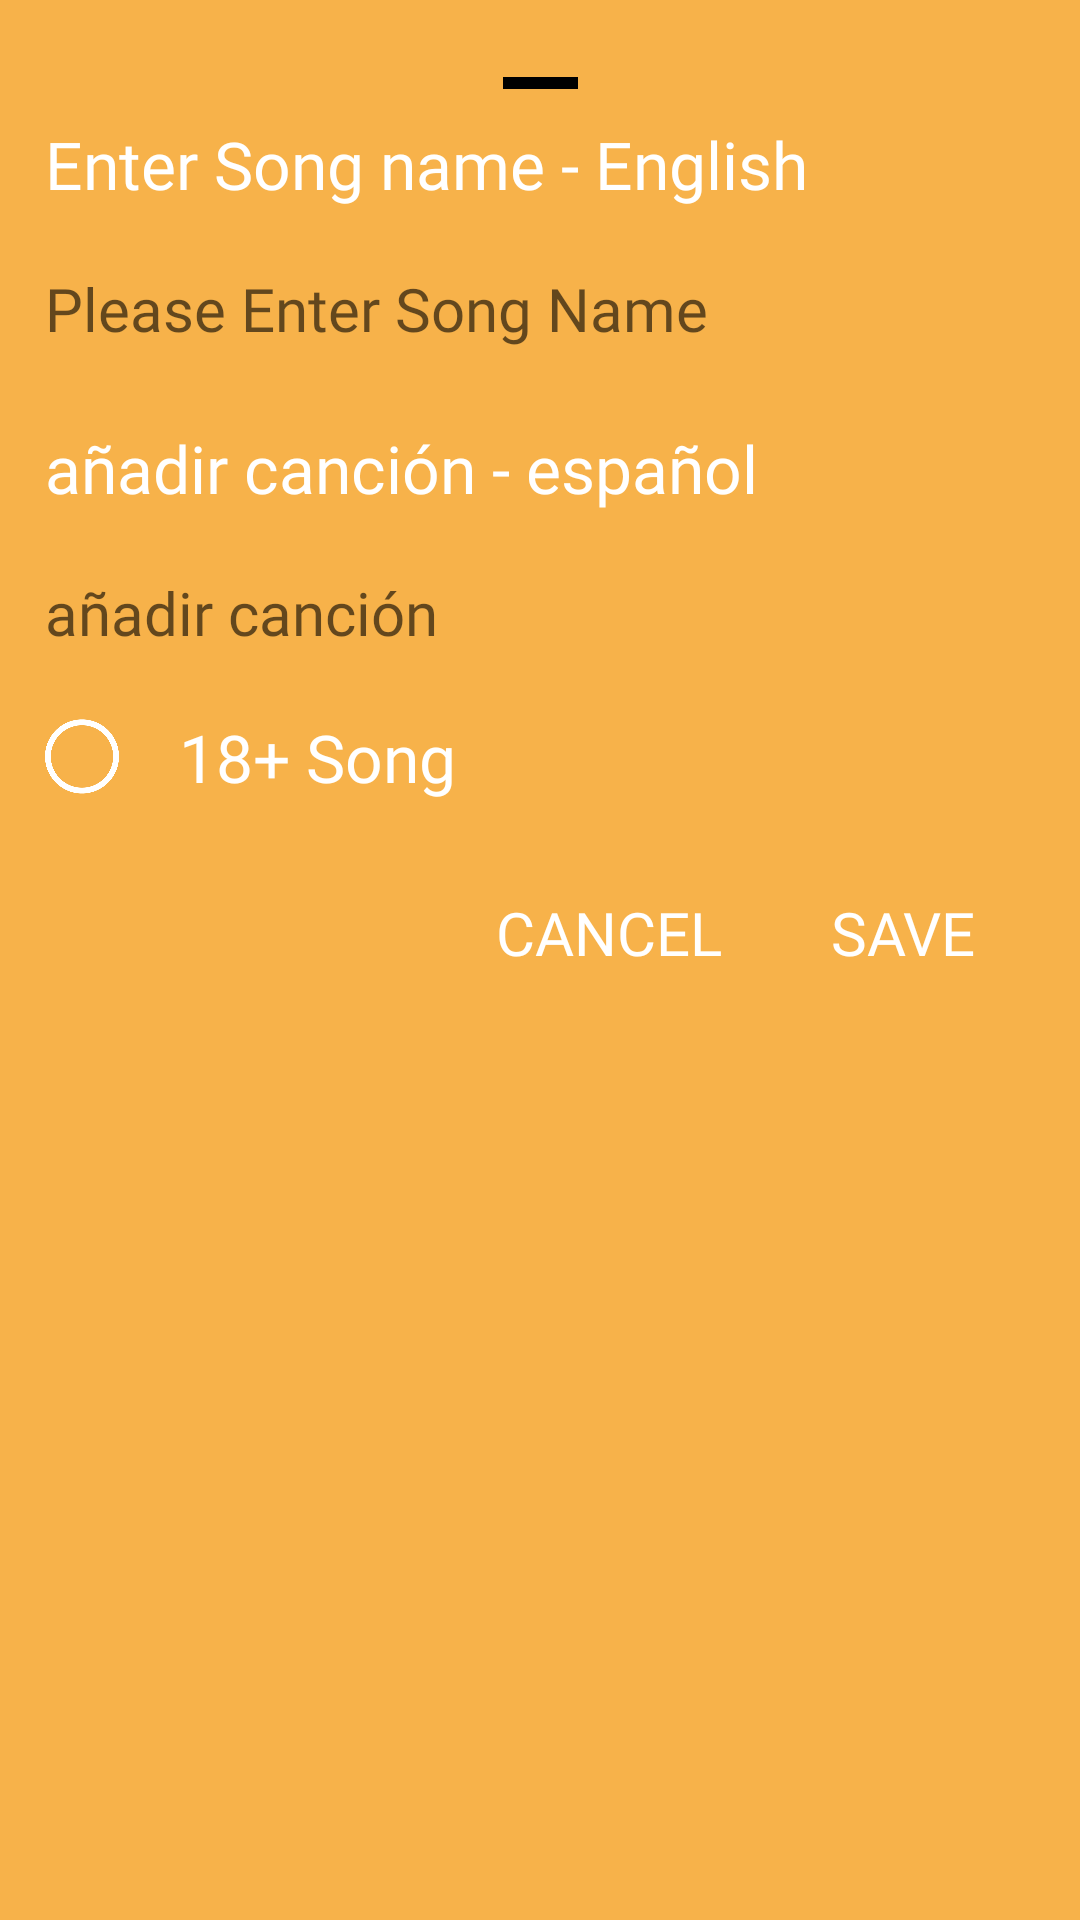

Where icons sit on this 1080×1920 app screen, as (x1, y1, x2, y2):
uncheck: (45, 719, 119, 794)
